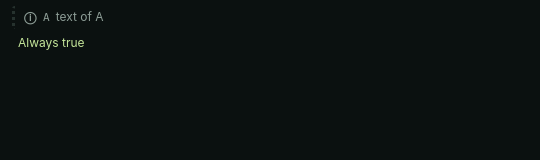
it: "Always true" lists the three standing notes
Click the button "Always true": (51, 43) [12, 33, 91, 54]
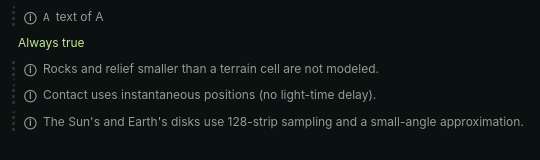
Now the list item "Rocks and relief smaller than a terrain cell are not modeled." is shown, box [43, 61, 379, 76]
Now the list item "Contact uses instantaneous positions (no light-time delay)." is shown, box [43, 87, 376, 102]
Now the list item "The Sun's and Earth's disks use 128-strip sampling and a small-angle approximation." is shown, box [43, 114, 524, 129]
